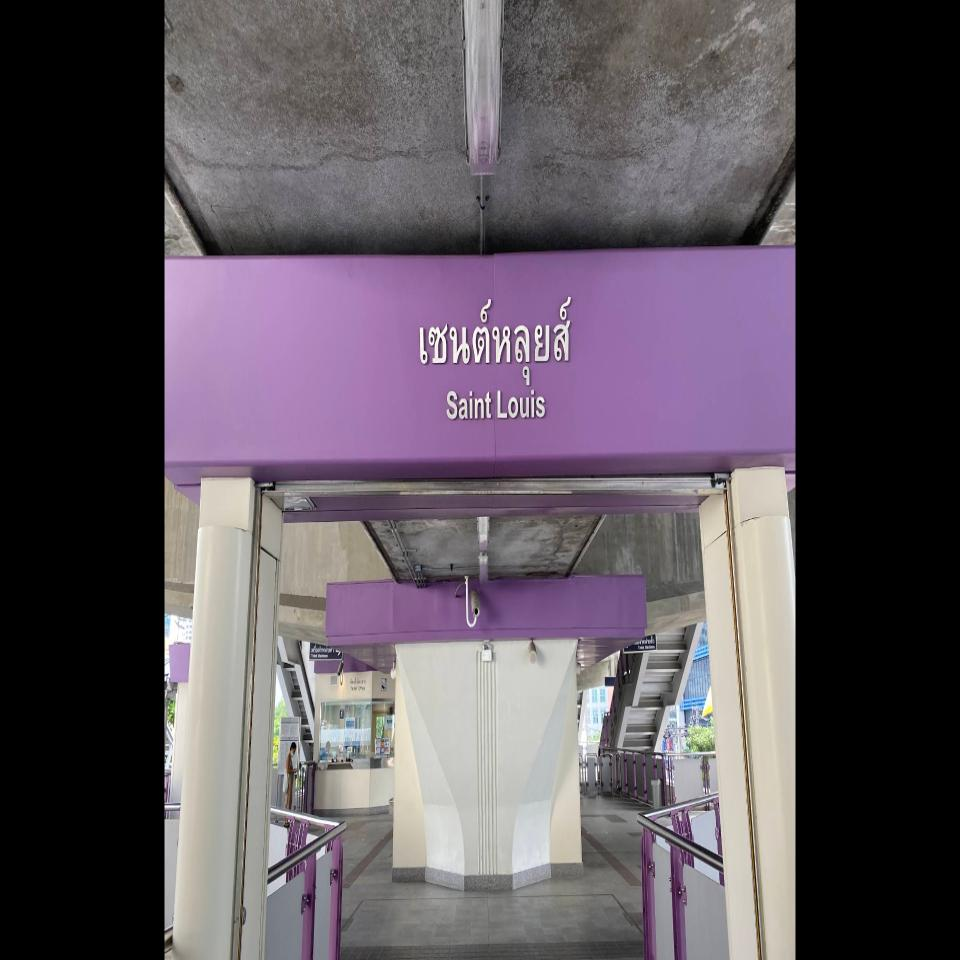Saint Louis: (419, 294, 574, 423)
